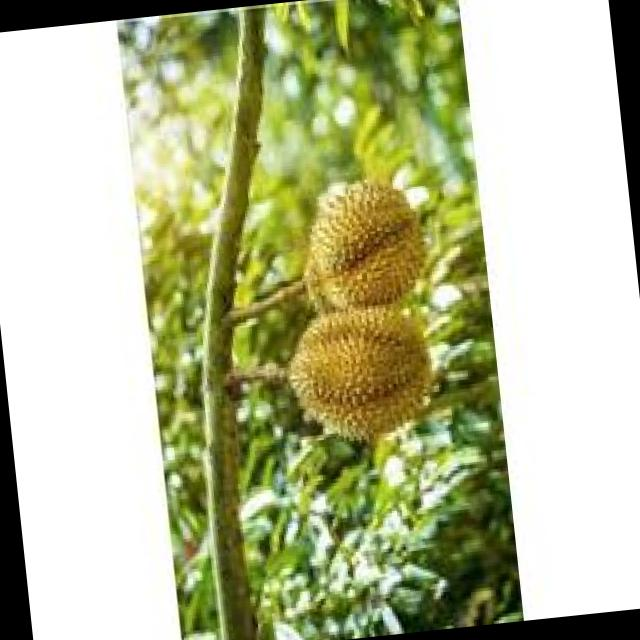fruit: (268, 286, 452, 463), (280, 163, 447, 332)
